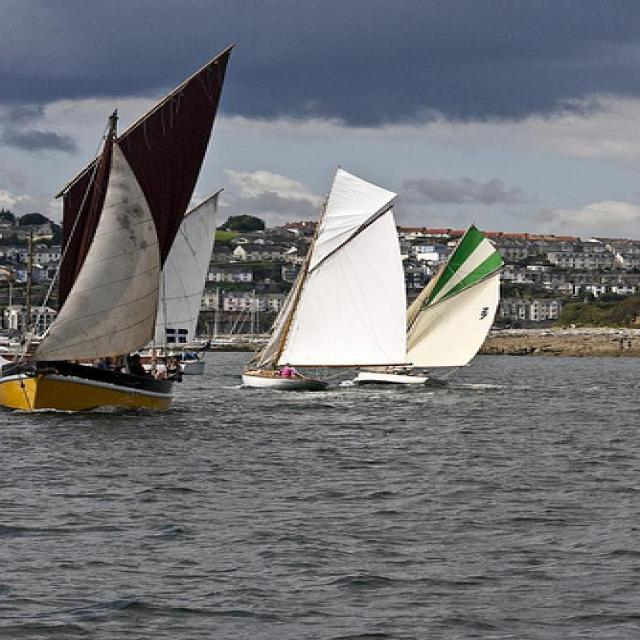Ship: (12, 43, 237, 415), (276, 154, 419, 398), (397, 215, 558, 383)
